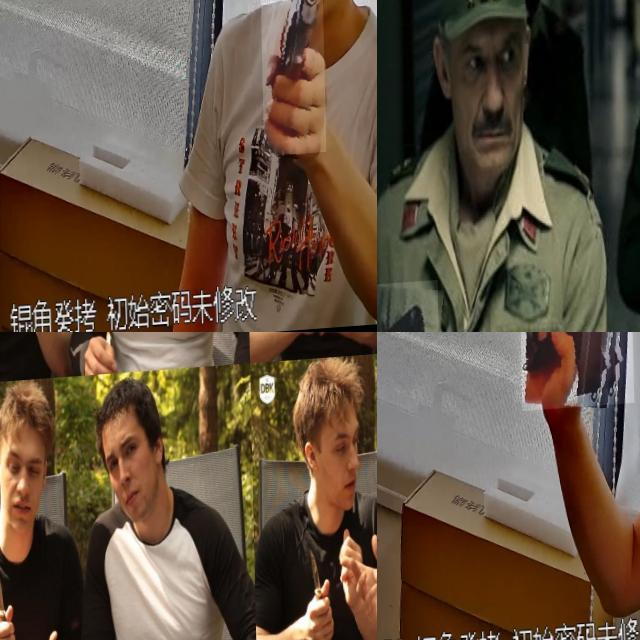-: (300, 542, 332, 634), (297, 332, 331, 383), (0, 553, 16, 640), (0, 332, 18, 385)
gun-knife-thesis - v11 Yolov5 augmented: (515, 332, 632, 466), (258, 0, 323, 161)
